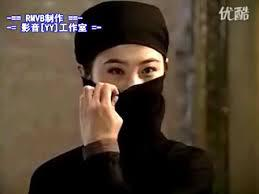WRONG: (92, 45, 164, 123)
